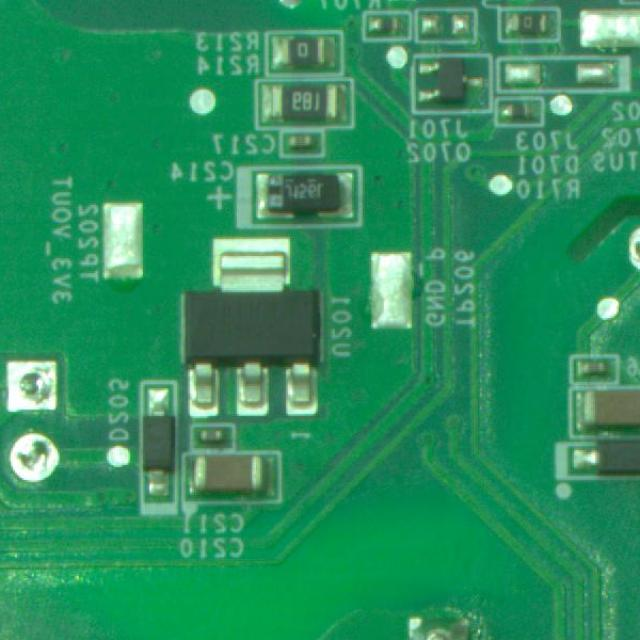Insufficient solder: (0, 347, 69, 416), (0, 422, 65, 489), (619, 225, 640, 274)
